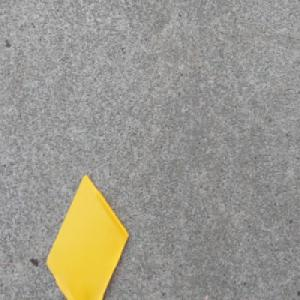PlasticPart: (44, 172, 130, 300)
